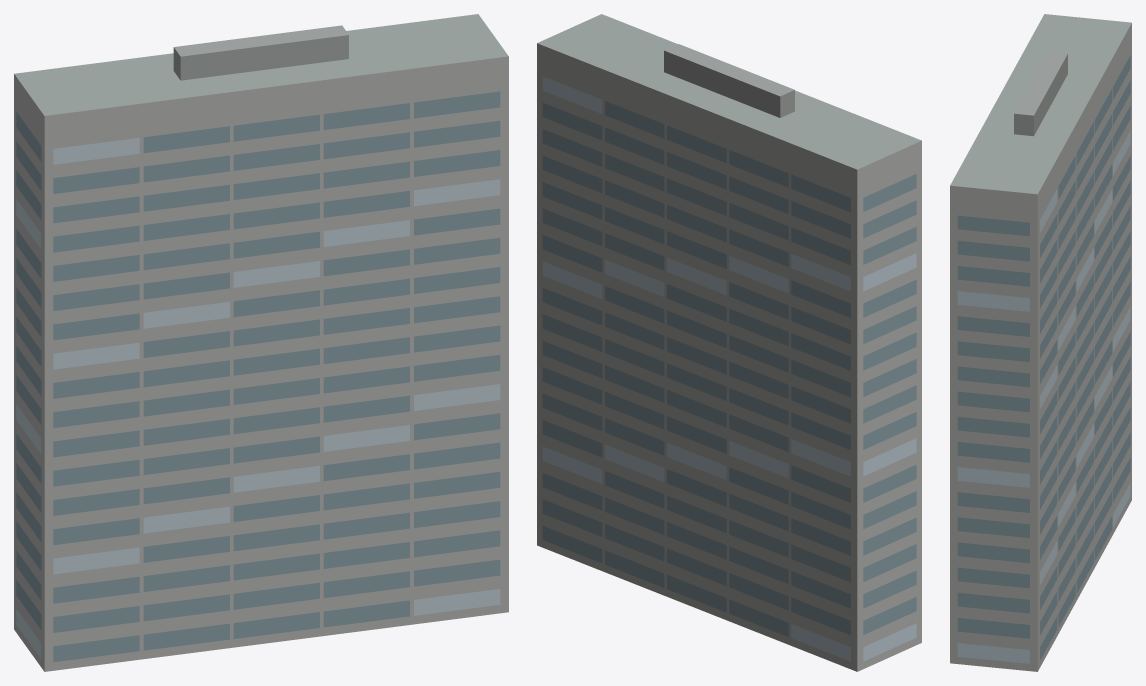
File: apt-a14386802.glb
3 renders of one model, left to right at view 1: azimuth 30°, elevation 25°; view 2: azimuth 150°, elevation 25°; view 3: azimuth 270°, elevation 25°, orthographic. The views are drawn at different scales.
Visible parts, largest first — view 1: apt-a14386802; view 2: apt-a14386802; view 3: apt-a14386802.
Boxes of the visible parts, x1,y1,x2,y2 form: apt-a14386802: (14, 14, 508, 671); apt-a14386802: (537, 14, 921, 671); apt-a14386802: (950, 14, 1131, 671).
Size of the model in its own units: 45.01 by 58 by 19.19.
